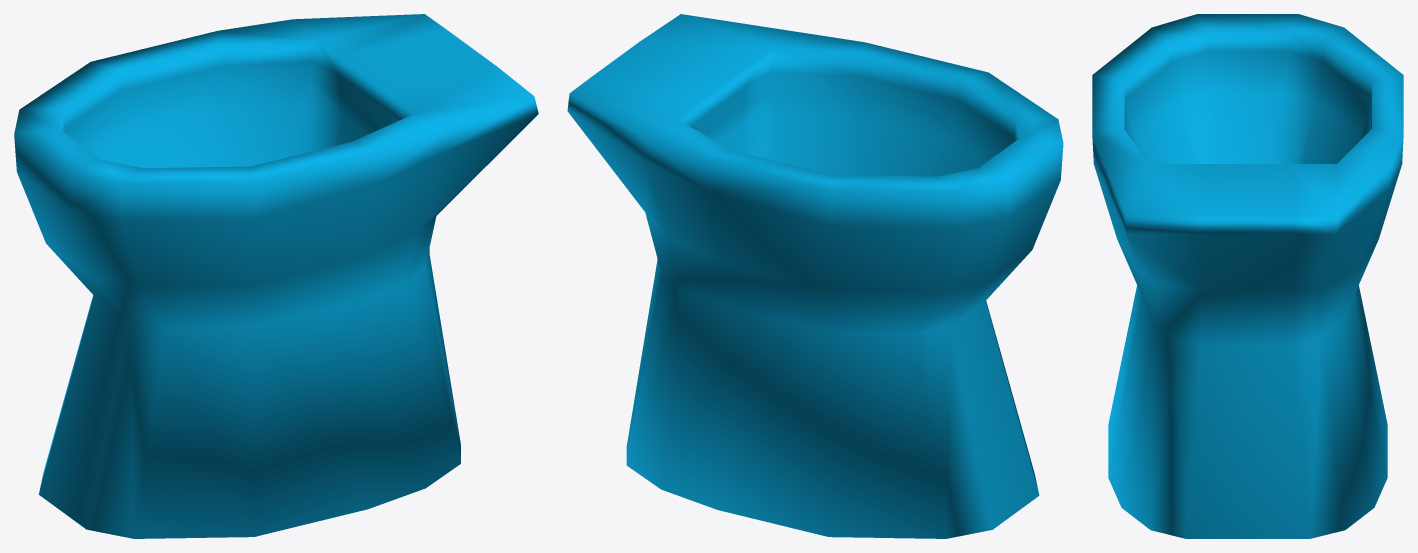
3 renders of one model, left to right at view 1: azimuth 30°, elevation 25°; view 2: azimuth 150°, elevation 25°; view 3: azimuth 270°, elevation 25°, orthographic. The views are drawn at different scales.
Parts seen in each view (by area): view 1: Wc_01_Lod2; view 2: Wc_01_Lod2; view 3: Wc_01_Lod2.
Part boxes in pixels (box(x1,y1,x2,y2)): Wc_01_Lod2: box(14, 14, 538, 538); Wc_01_Lod2: box(567, 14, 1063, 538); Wc_01_Lod2: box(1092, 14, 1403, 538).
Bounding box in the file's own units: 51.76 × 41.37 × 33.77.
